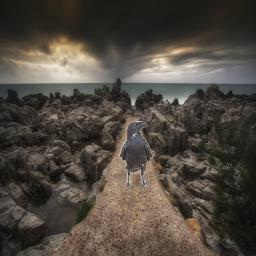Crow: (119, 121, 153, 187)
